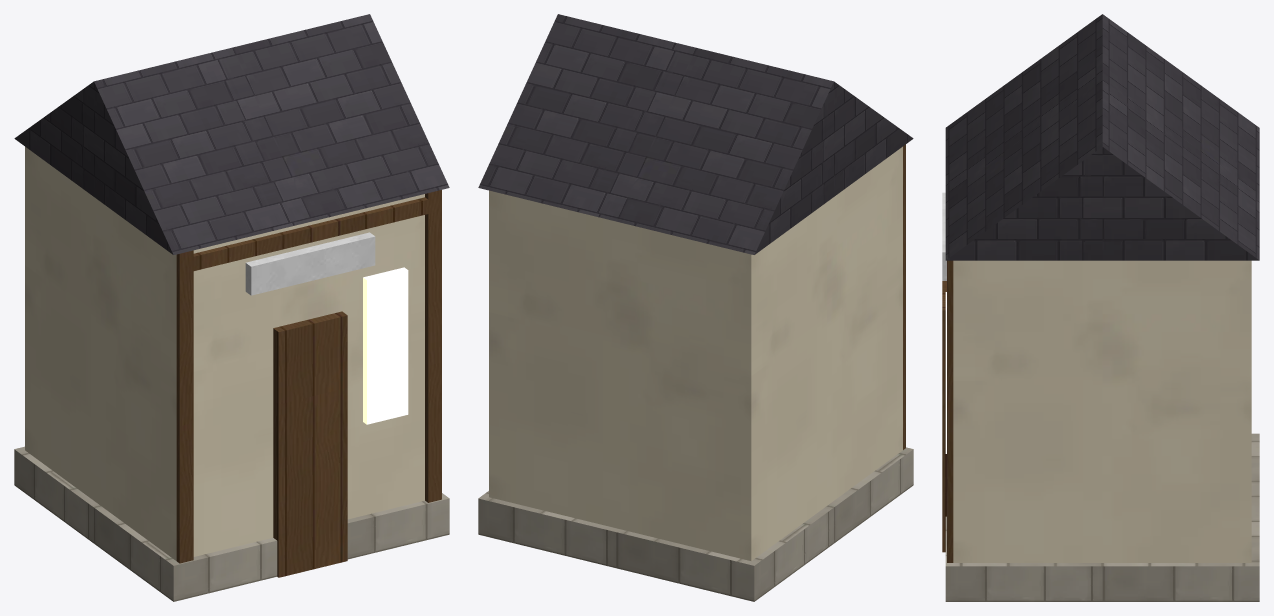
Rendered from category.nft.t0.glb.
3 views of the same model, side by side, from view 1: azimuth 30°, elevation 25°; view 2: azimuth 150°, elevation 25°; view 3: azimuth 270°, elevation 25° (orthographic).
Parts seen in each view (by area): view 1: building.category.nft.t0; view 2: building.category.nft.t0; view 3: building.category.nft.t0.
Part boxes in pixels (box(x1,y1,x2,y2)): building.category.nft.t0: box(14, 14, 449, 601); building.category.nft.t0: box(478, 14, 913, 601); building.category.nft.t0: box(942, 14, 1259, 601).
Size of the model in its own units: 2 by 3.2 by 2.02.
6 materials, 5 textured.
